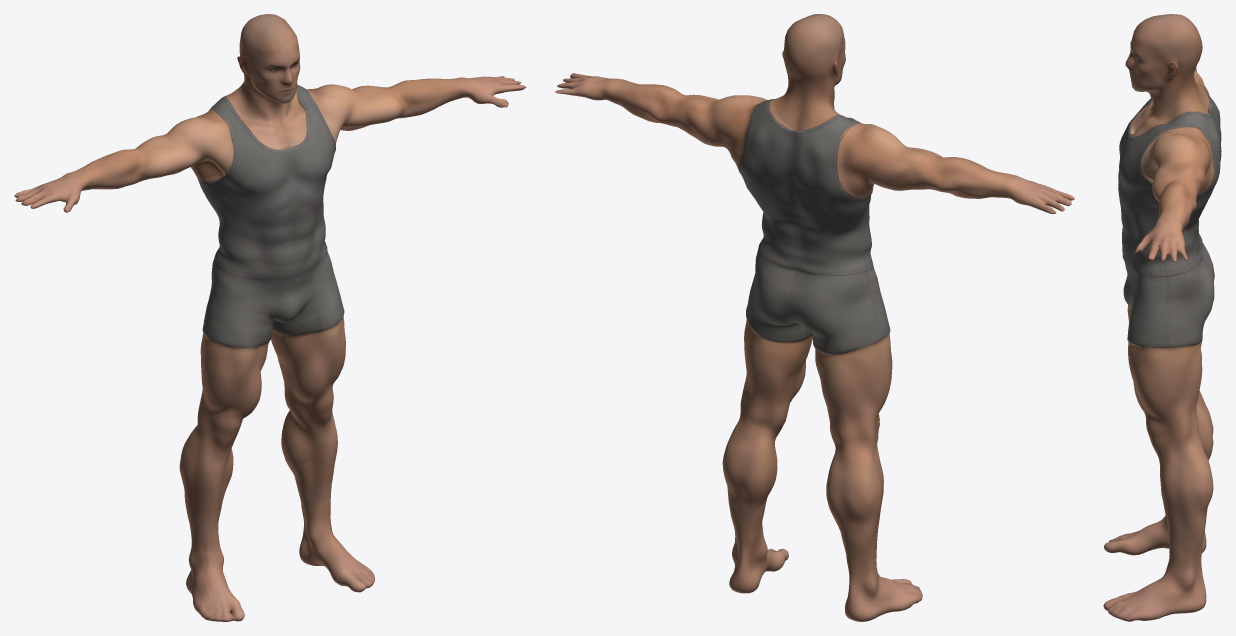
Rendered from muscular man 3d model.glb.
3 renders of one model, left to right at view 1: azimuth 30°, elevation 25°; view 2: azimuth 150°, elevation 25°; view 3: azimuth 270°, elevation 25°, orthographic. The views are drawn at different scales.
Parts seen in each view (by area): view 1: tripo_node_96dc790f; view 2: tripo_node_96dc790f; view 3: tripo_node_96dc790f.
Boxes of the visible parts, left/top/right/bottom form: tripo_node_96dc790f: left=14, top=14, right=526, bottom=621; tripo_node_96dc790f: left=555, top=14, right=1074, bottom=621; tripo_node_96dc790f: left=1103, top=14, right=1221, bottom=621.
Bounding box in the file's own units: 91.87 × 99.9 × 18.89.
Materials: 1 (1 with a texture image).
